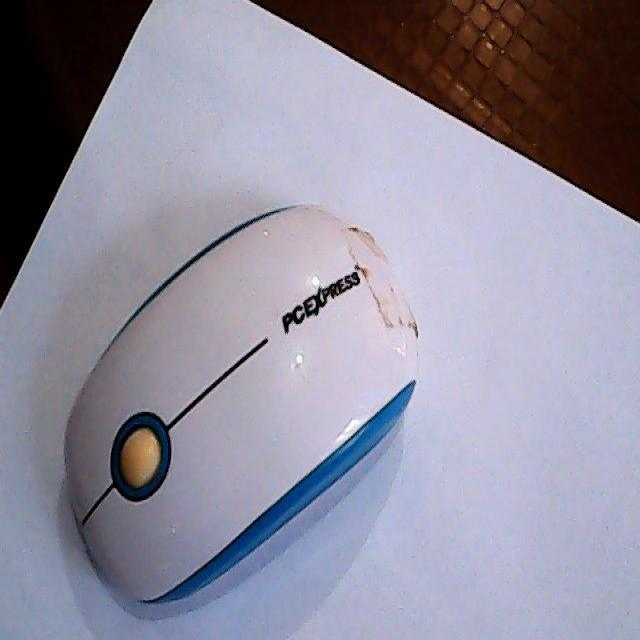Mouse: (62, 202, 420, 609)
